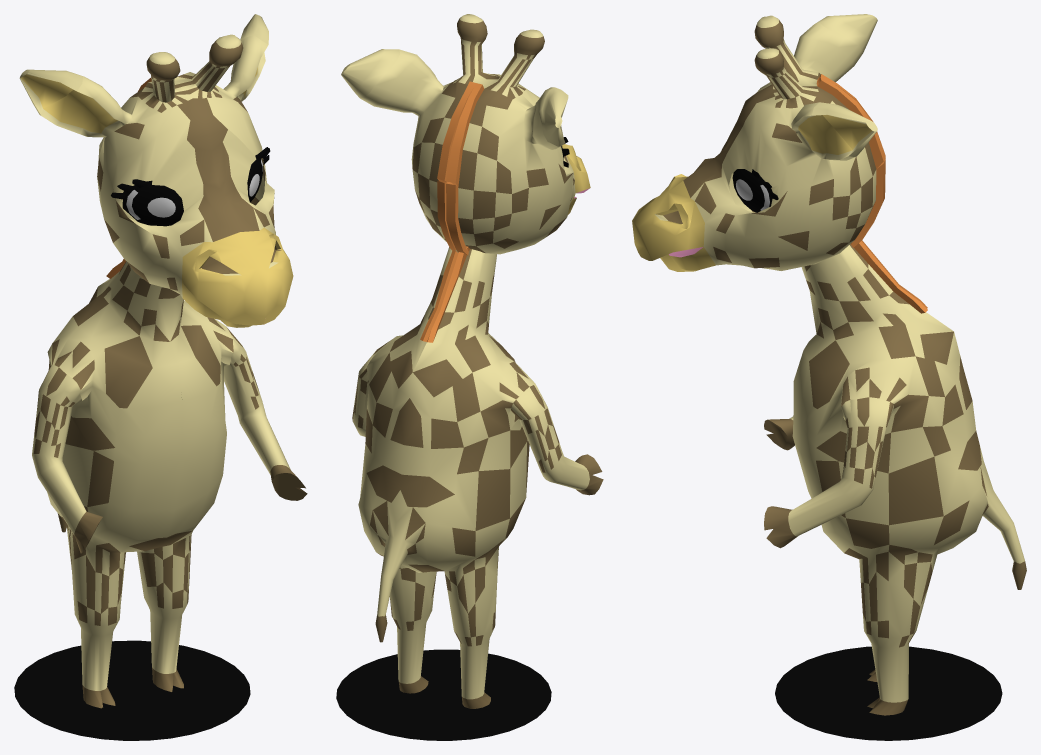
Rendered from kirino.glb.
3 views of the same model, side by side, from view 1: azimuth 30°, elevation 25°; view 2: azimuth 150°, elevation 25°; view 3: azimuth 270°, elevation 25° (orthographic). The views are drawn at different scales.
Visible parts, largest first — view 1: body01.001; view 2: body01.001; view 3: body01.001.
Part boxes in pixels (x1,y1,x2,y2): body01.001: (14,14,307,740); body01.001: (336,14,603,740); body01.001: (632,14,1026,740).
Size of the model in its own units: 1.09 by 3 by 1.63.
